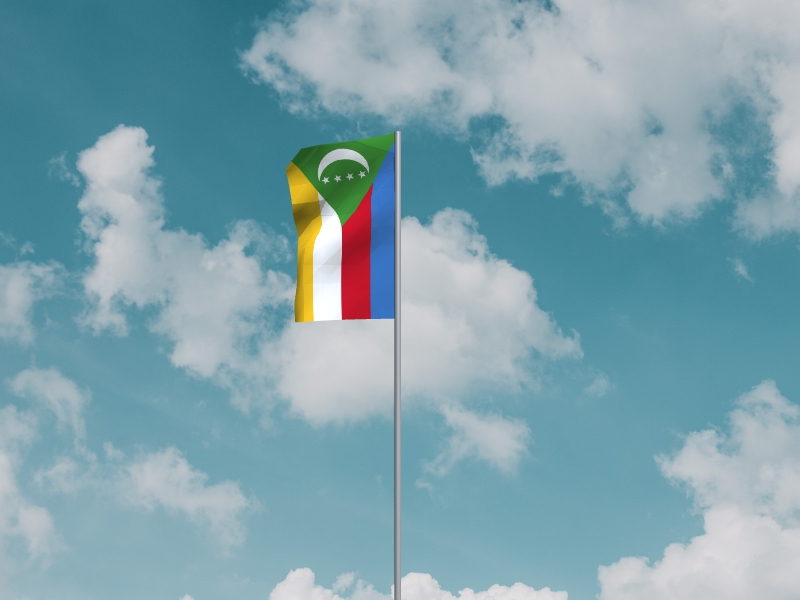km: (285, 134, 395, 324)
